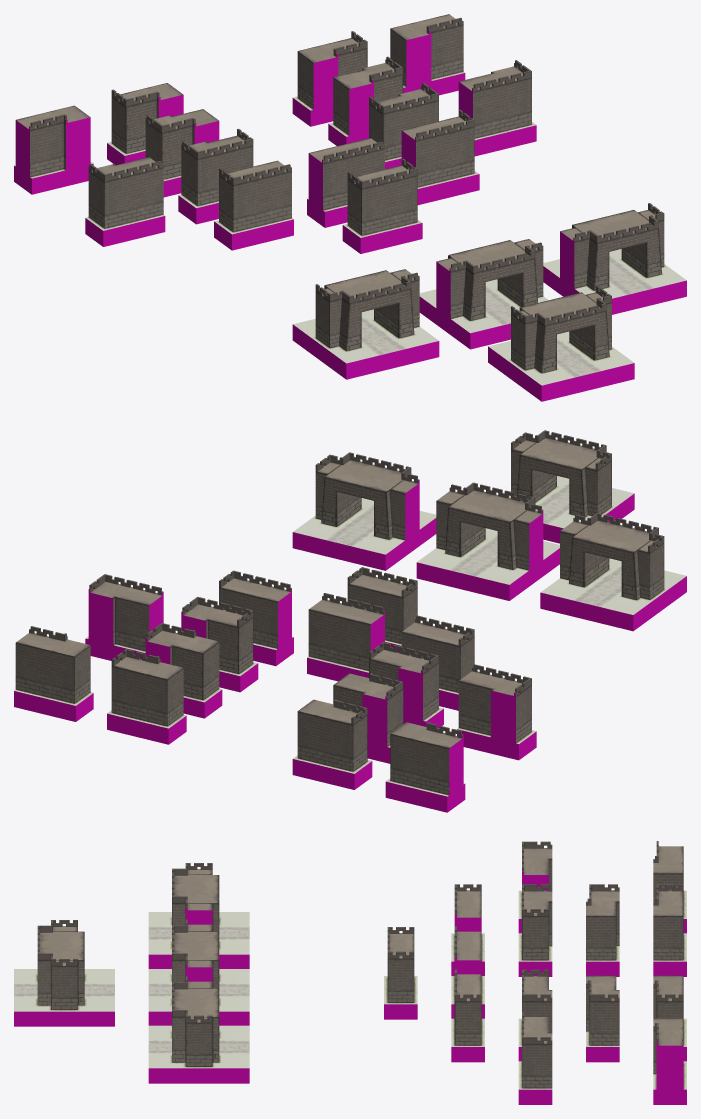
File: CityWall.fbx
The picture shows the model from 3 angles, top to bottom: view 1: azimuth 30°, elevation 25°; view 2: azimuth 150°, elevation 25°; view 3: azimuth 270°, elevation 25°; orthographic projection. The views are drawn at different scales.
Parts seen in each view (by area): view 1: CW-SG-1, CW-SG-0, CW-SG-3, CW-SG-2, CW-8, CW-1, CW-0, CW-10, CW-9, CW-3, CW-11, CW-2 (+6 smaller); view 2: CW-SG-2, CW-SG-1, CW-SG-3, CW-SG-0, CW-11, CW-8, CW-7, CW-10, CW-6, CW-2, CW-9, CW-3 (+6 smaller); view 3: CW-SG-3, CW-SG-0, CW-SG-1, CW-SG-2, CW-12, CW-13, CW-6, CW-4, CW-9, CW-0, CW-11, CW-3 (+6 smaller).
Part boxes in pixels (<box>): CW-SG-1: <box>292,269,439,379</box>; CW-SG-0: <box>488,285,634,401</box>; CW-SG-3: <box>543,203,686,314</box>; CW-SG-2: <box>419,239,548,349</box>; CW-8: <box>85,157,165,246</box>; CW-1: <box>214,160,293,250</box>; CW-0: <box>342,158,422,253</box>; CW-10: <box>14,105,93,194</box>; CW-9: <box>458,60,536,156</box>; CW-3: <box>401,109,479,205</box>; CW-11: <box>390,14,465,95</box>; CW-2: <box>307,138,384,227</box>; CW-SG-2: <box>416,482,559,600</box>; CW-SG-1: <box>540,513,686,631</box>; CW-SG-3: <box>292,452,436,570</box>; CW-SG-0: <box>509,430,634,543</box>; CW-11: <box>14,626,93,721</box>; CW-8: <box>457,664,536,760</box>; CW-7: <box>107,649,186,744</box>; CW-10: <box>385,722,465,812</box>; CW-6: <box>292,699,372,789</box>; CW-2: <box>307,593,384,681</box>; CW-9: <box>85,574,163,660</box>; CW-3: <box>219,570,293,666</box>; CW-SG-3: <box>148,976,249,1083</box>; CW-SG-0: <box>14,920,114,1026</box>; CW-SG-1: <box>148,863,249,968</box>; CW-SG-2: <box>148,919,249,1025</box>; CW-12: <box>586,884,619,976</box>; CW-13: <box>586,975,619,1062</box>; CW-6: <box>653,884,686,976</box>; CW-4: <box>518,884,552,976</box>; CW-9: <box>518,1011,552,1104</box>; CW-0: <box>384,927,417,1019</box>; CW-11: <box>653,1018,686,1104</box>; CW-3: <box>451,969,484,1062</box>.
Size of the model in its own units: 7000 by 1075 by 10000.
Materials: 4 (3 with a texture image).
